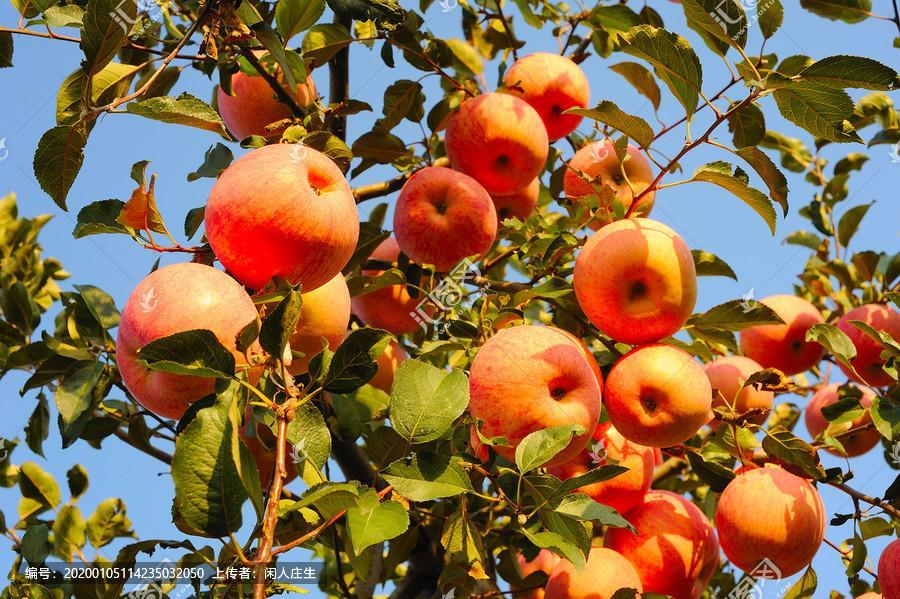apple: (201, 142, 360, 293), (115, 261, 257, 421), (466, 321, 605, 462), (575, 216, 700, 344), (711, 462, 826, 587), (602, 342, 713, 449), (391, 165, 499, 272), (878, 537, 899, 599)
